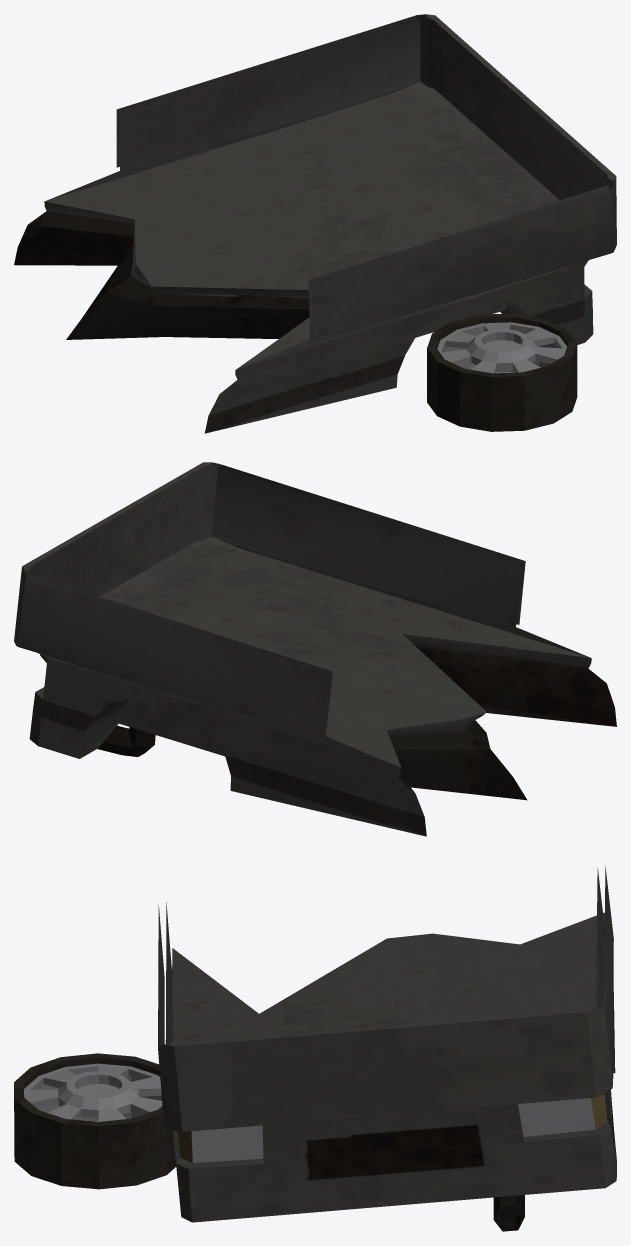
Rendered from P_CAR_WRECKED TRUCK2.fbx.
The picture shows the model from 3 angles, top to bottom: view 1: azimuth 30°, elevation 25°; view 2: azimuth 150°, elevation 25°; view 3: azimuth 270°, elevation 25°; orthographic projection. The views are drawn at different scales.
Parts seen in each view (by area): view 1: Car_Wrecked_Truck_2; view 2: Car_Wrecked_Truck_2; view 3: Car_Wrecked_Truck_2.
Part boxes in pixels (<box>): Car_Wrecked_Truck_2: <box>14,14,616,433</box>; Car_Wrecked_Truck_2: <box>14,462,616,836</box>; Car_Wrecked_Truck_2: <box>14,866,616,1231</box>.
Bounding box in the file's own units: 275 × 116 × 284.
